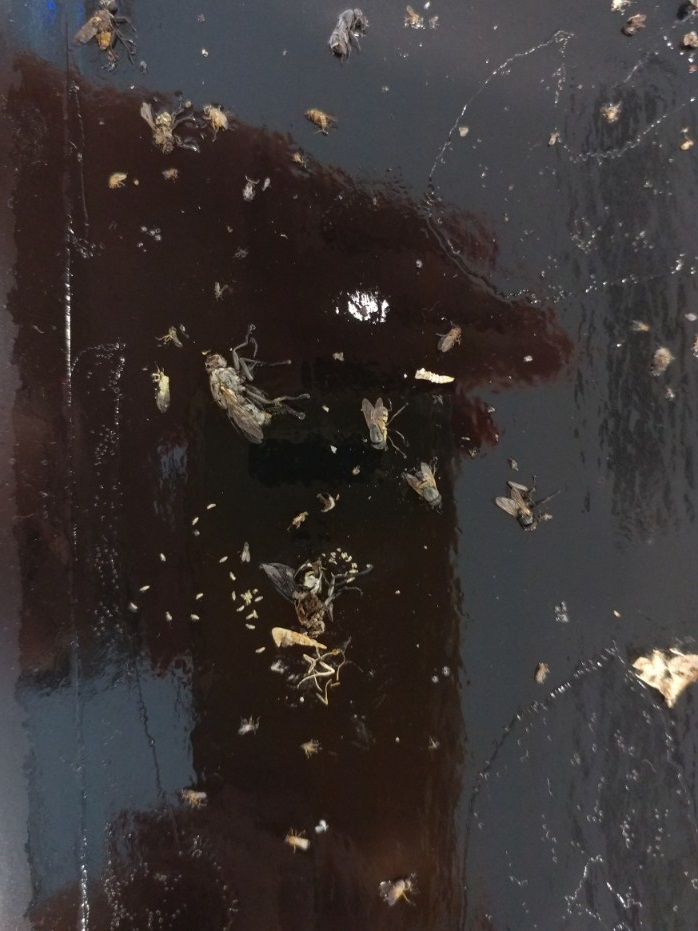house fly: (186, 329, 317, 449), (249, 557, 371, 678), (313, 1, 368, 68)
moth: (622, 638, 698, 719)
